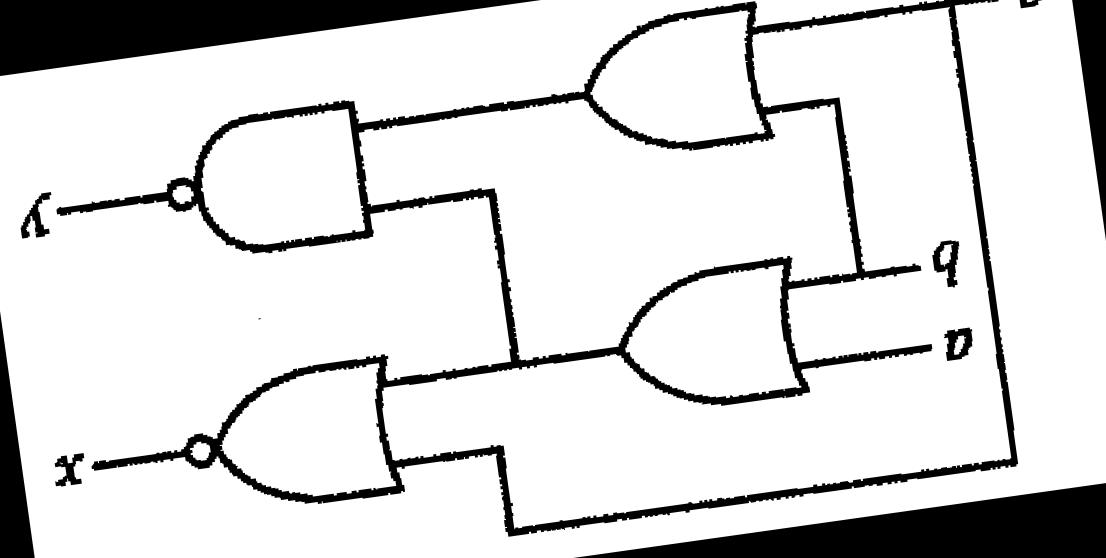nand: (147, 83, 386, 276)
nor: (160, 340, 418, 533)
or: (596, 241, 822, 430), (561, 0, 783, 174)
